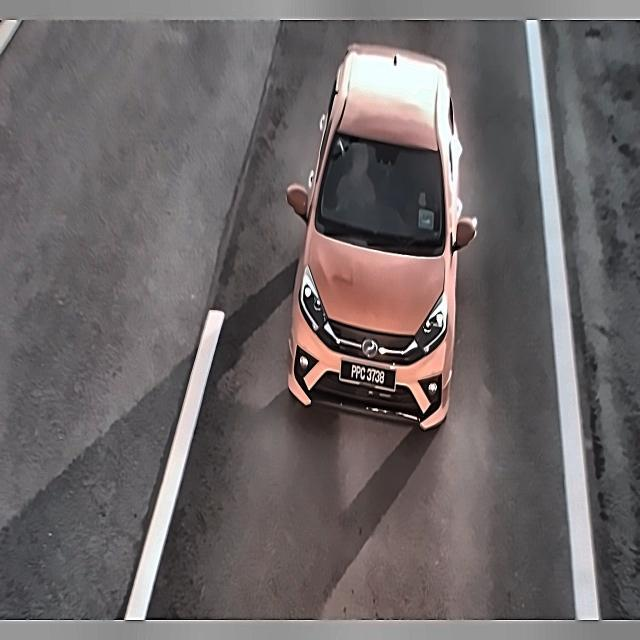car: (337, 354, 402, 397)
